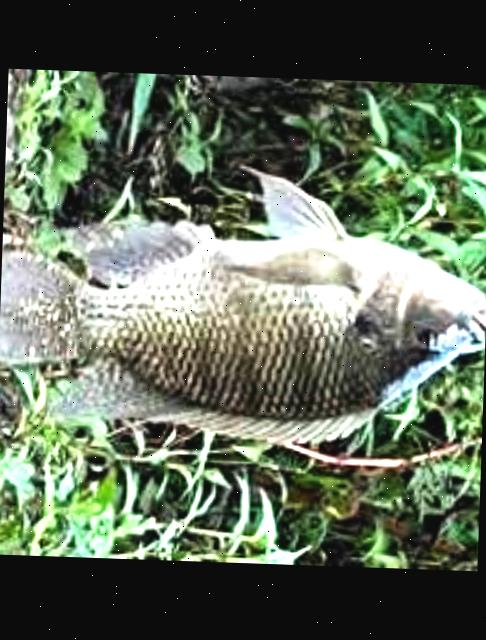Healthy Fish: (0, 171, 486, 447)
